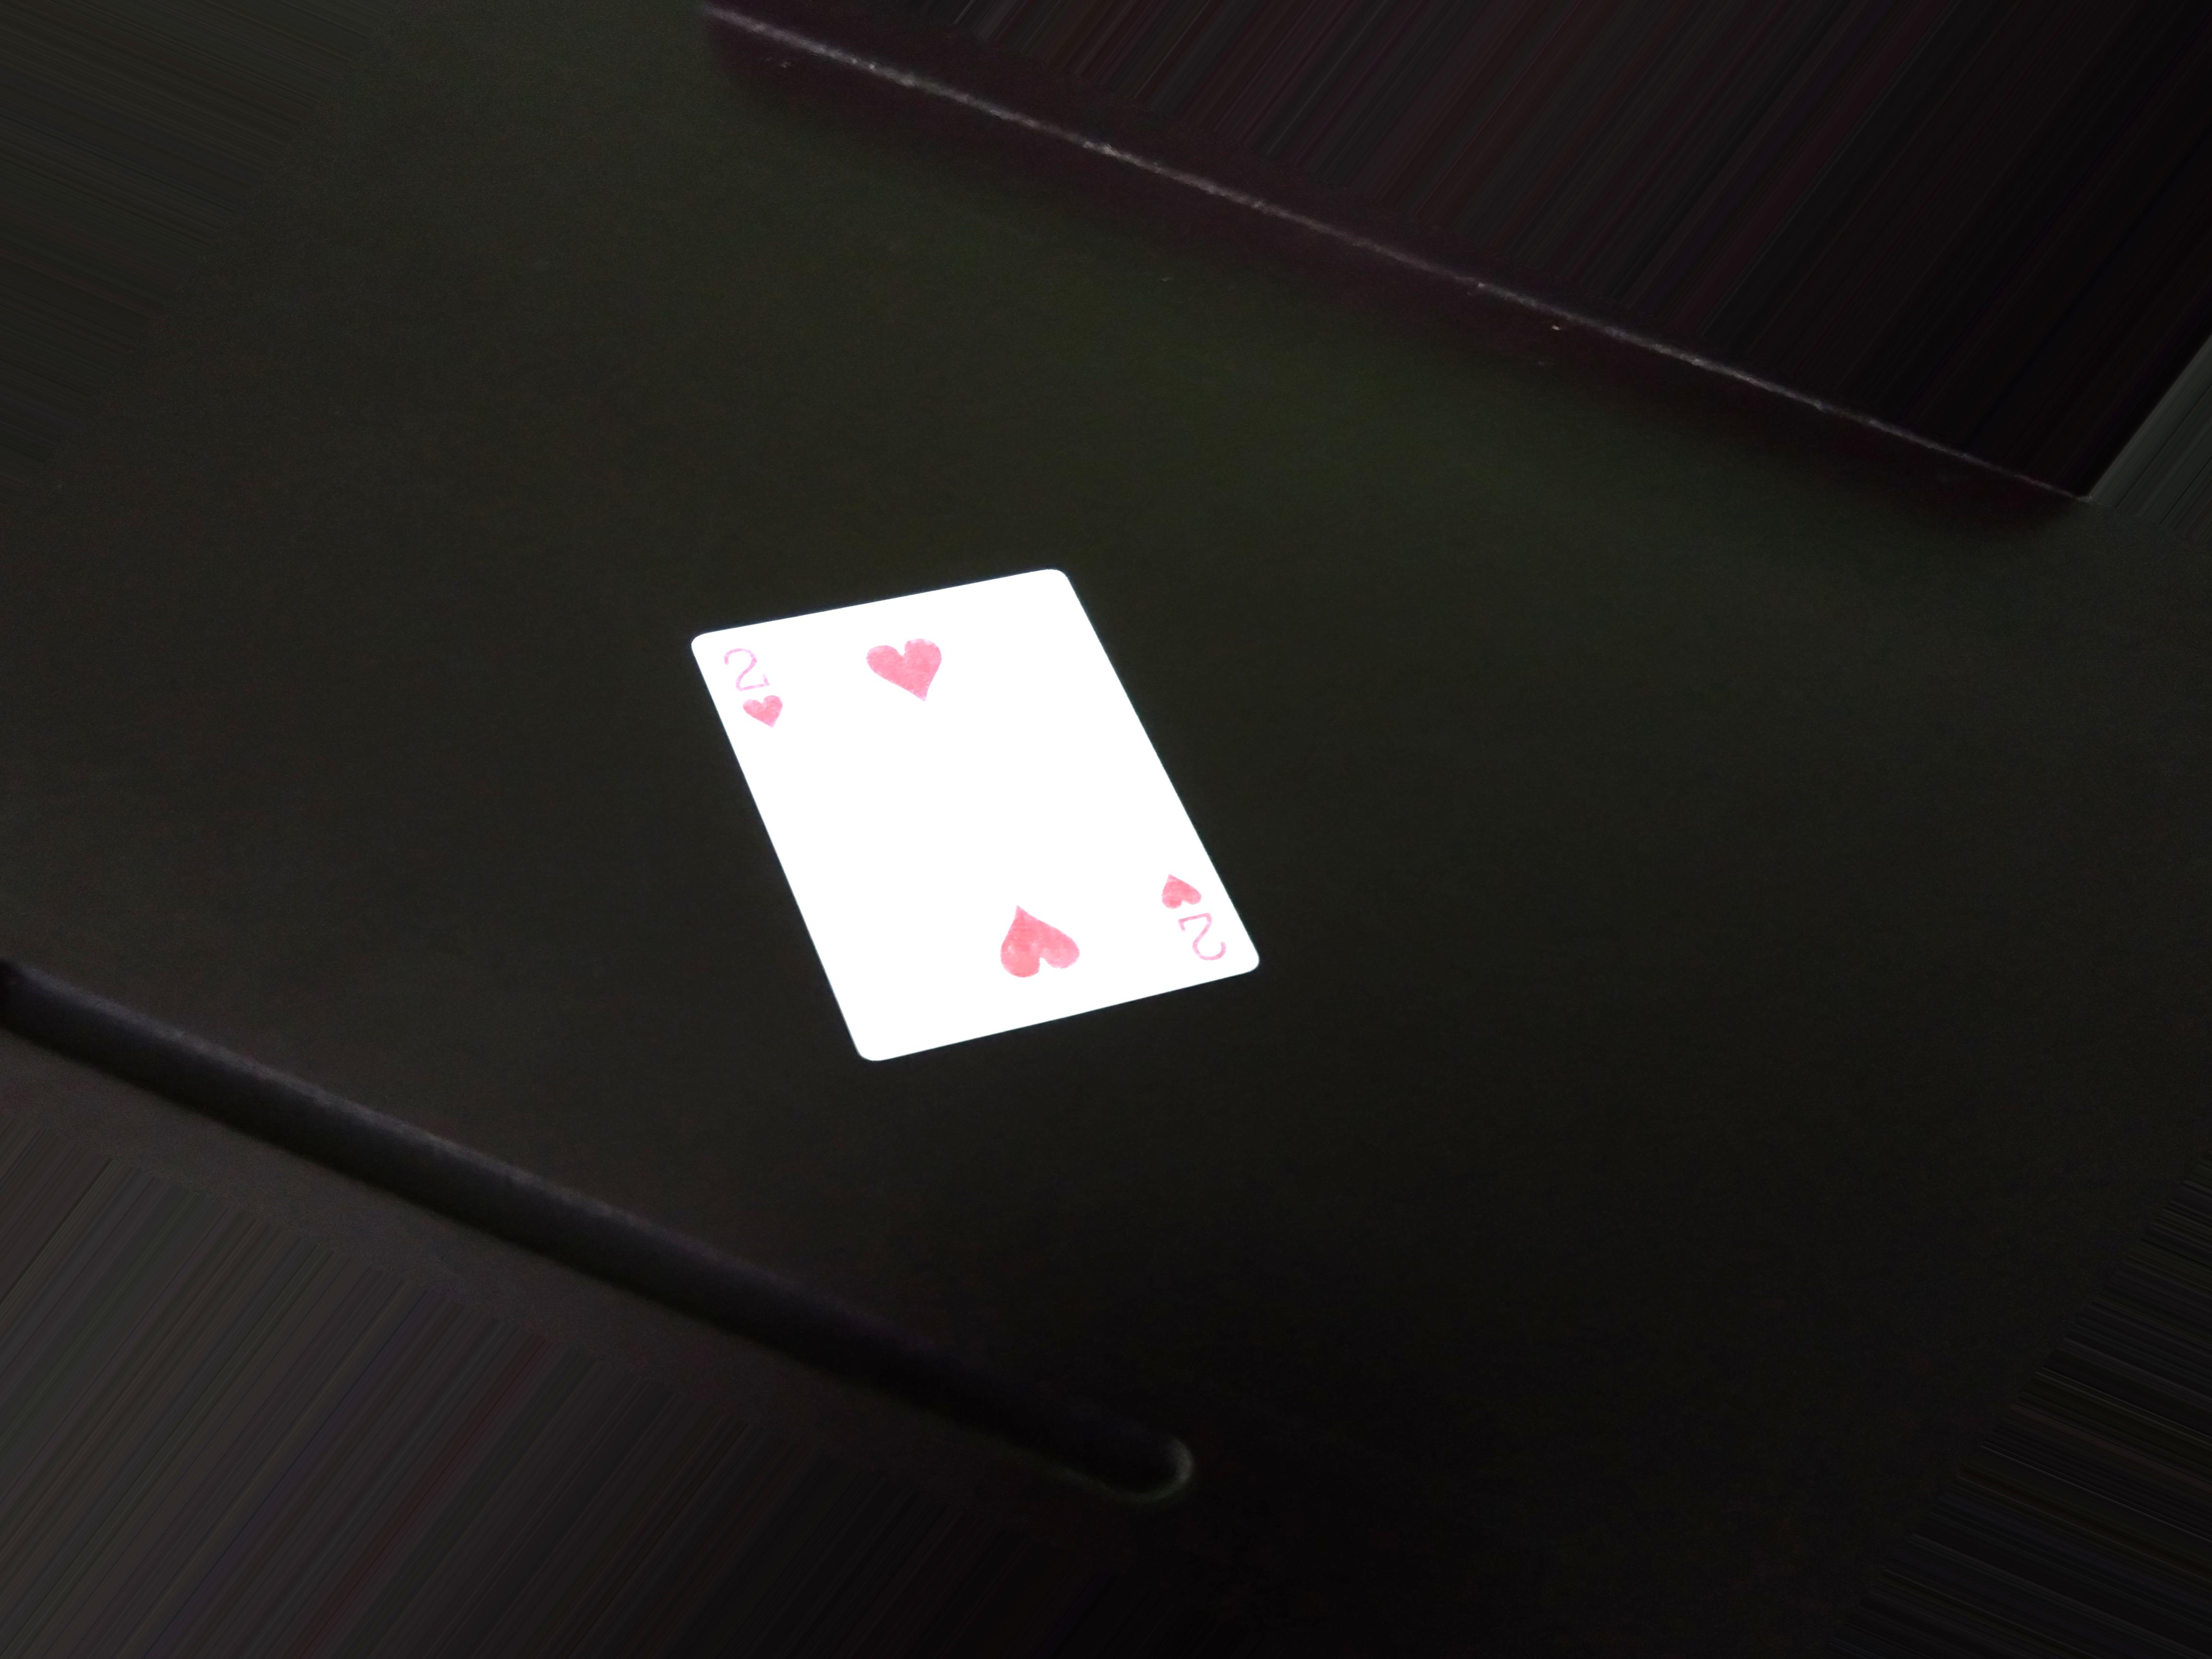2H: (698, 640, 819, 744)
